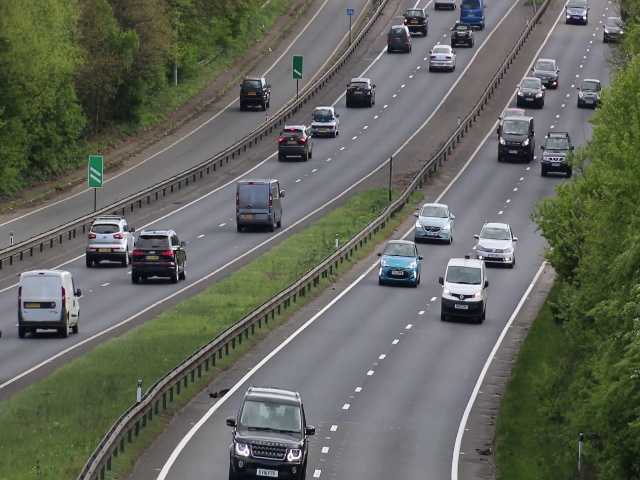car: (225, 390, 310, 480), (17, 272, 82, 340), (440, 254, 489, 324), (132, 230, 188, 285), (237, 180, 282, 231), (87, 214, 130, 266), (377, 240, 422, 287), (479, 222, 514, 266), (500, 119, 533, 165), (416, 202, 453, 242), (278, 124, 315, 162), (543, 134, 570, 178), (237, 76, 270, 109), (310, 104, 341, 137), (515, 77, 546, 107), (346, 79, 376, 107), (386, 22, 412, 53), (429, 43, 456, 72), (460, 1, 486, 27), (403, 8, 429, 33), (577, 79, 600, 107), (564, 1, 588, 24), (534, 59, 558, 81), (450, 25, 472, 48), (604, 15, 620, 40)
